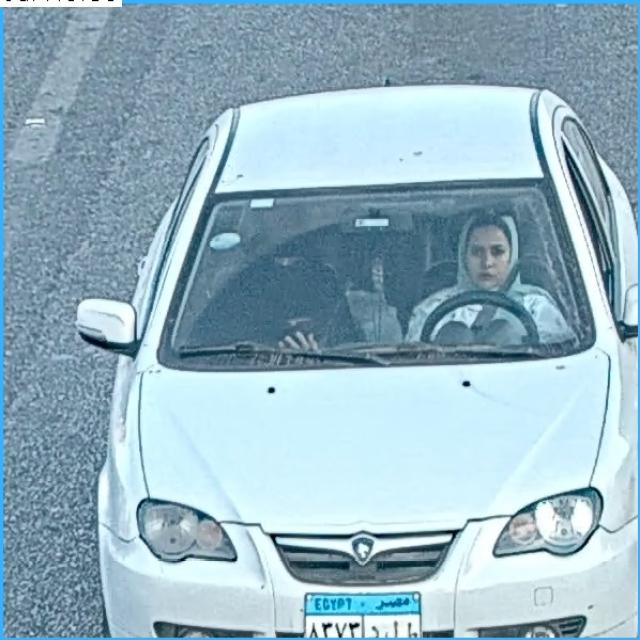windshield: (162, 192, 598, 349)
